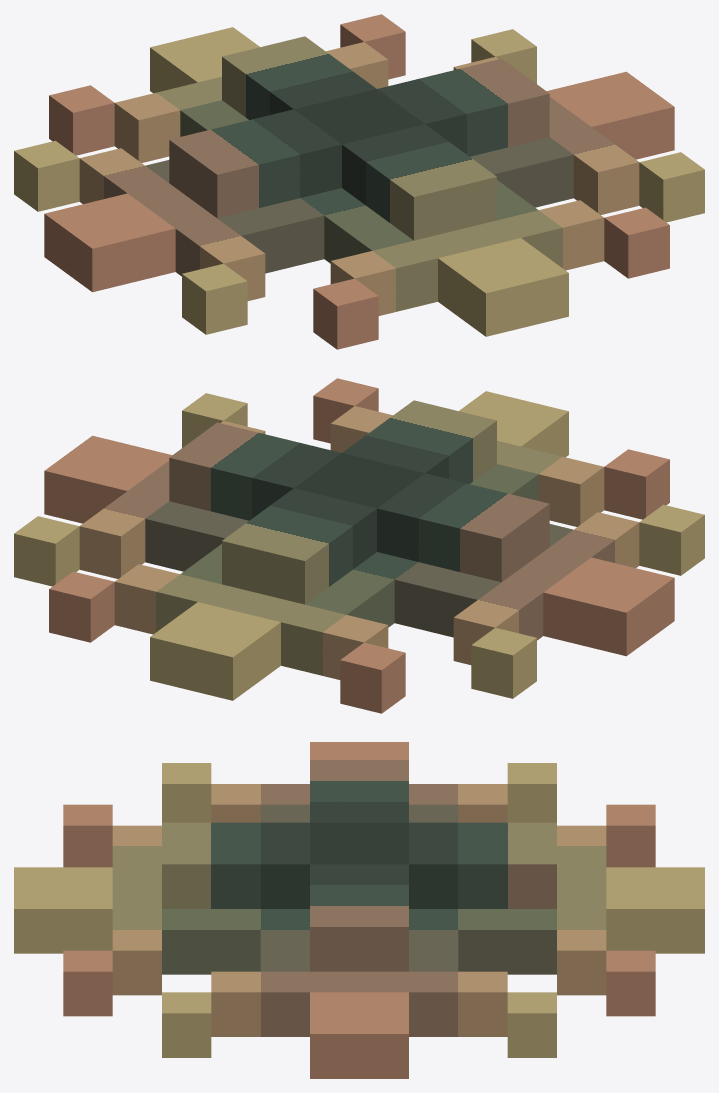
File: cannon_standart(double)-5.fbx
3 views of the same model, one above another, from view 1: azimuth 30°, elevation 25°; view 2: azimuth 150°, elevation 25°; view 3: azimuth 270°, elevation 25° (orthographic). The views are drawn at different scales.
Parts seen in each view (by area): view 1: cannon_standart(double)-5.001; view 2: cannon_standart(double)-5.001; view 3: cannon_standart(double)-5.001.
Boxes of the visible parts, left/top/right/bottom form: cannon_standart(double)-5.001: left=14, top=14, right=704, bottom=349; cannon_standart(double)-5.001: left=14, top=378, right=704, bottom=713; cannon_standart(double)-5.001: left=14, top=742, right=704, bottom=1078.
Bounding box in the file's own units: 1.4 × 0.2 × 1.4.
Materials: 1 (1 with a texture image).
